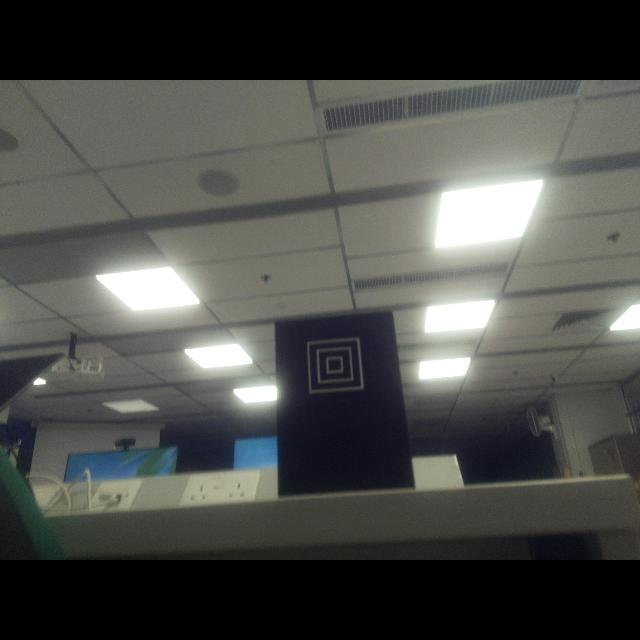BULLSEYE: (307, 338, 364, 394)
